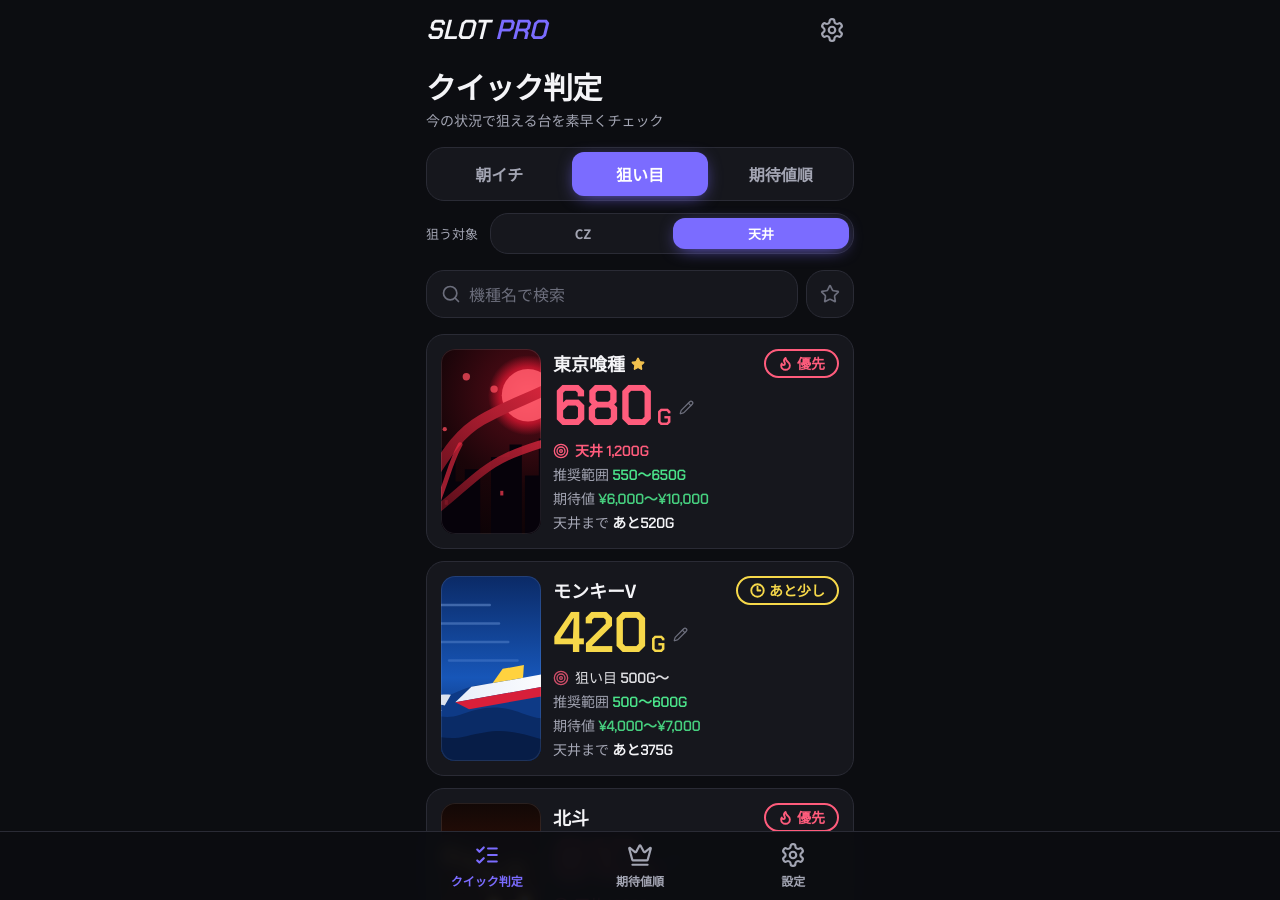
Test case: 画面 › 狙う対象をCZにするとCZの対象機種だけになる
Click the tab "CZ".
click(583, 233)  # box [495,218,671,249]
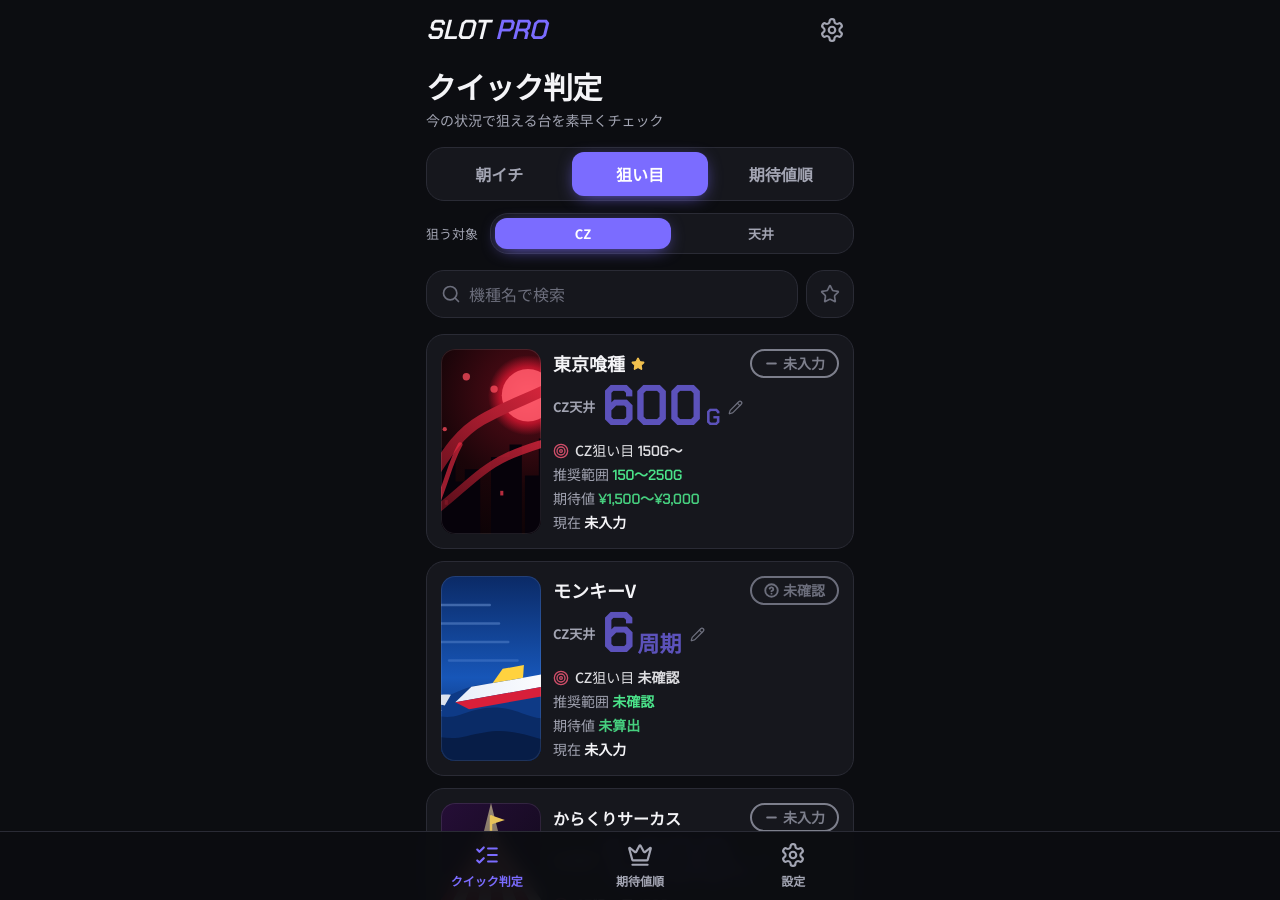
Result: the button "北斗" is gone
Result: the text "CZ狙い目 150G〜" is shown at [575,440,683,462]
Result: the text "600" is shown at [601,380,701,434]
Click the button with aria-label "東京喰種の現在CZ液晶ゲーム数を入力".
click(648, 407)  # box [553,380,743,434]
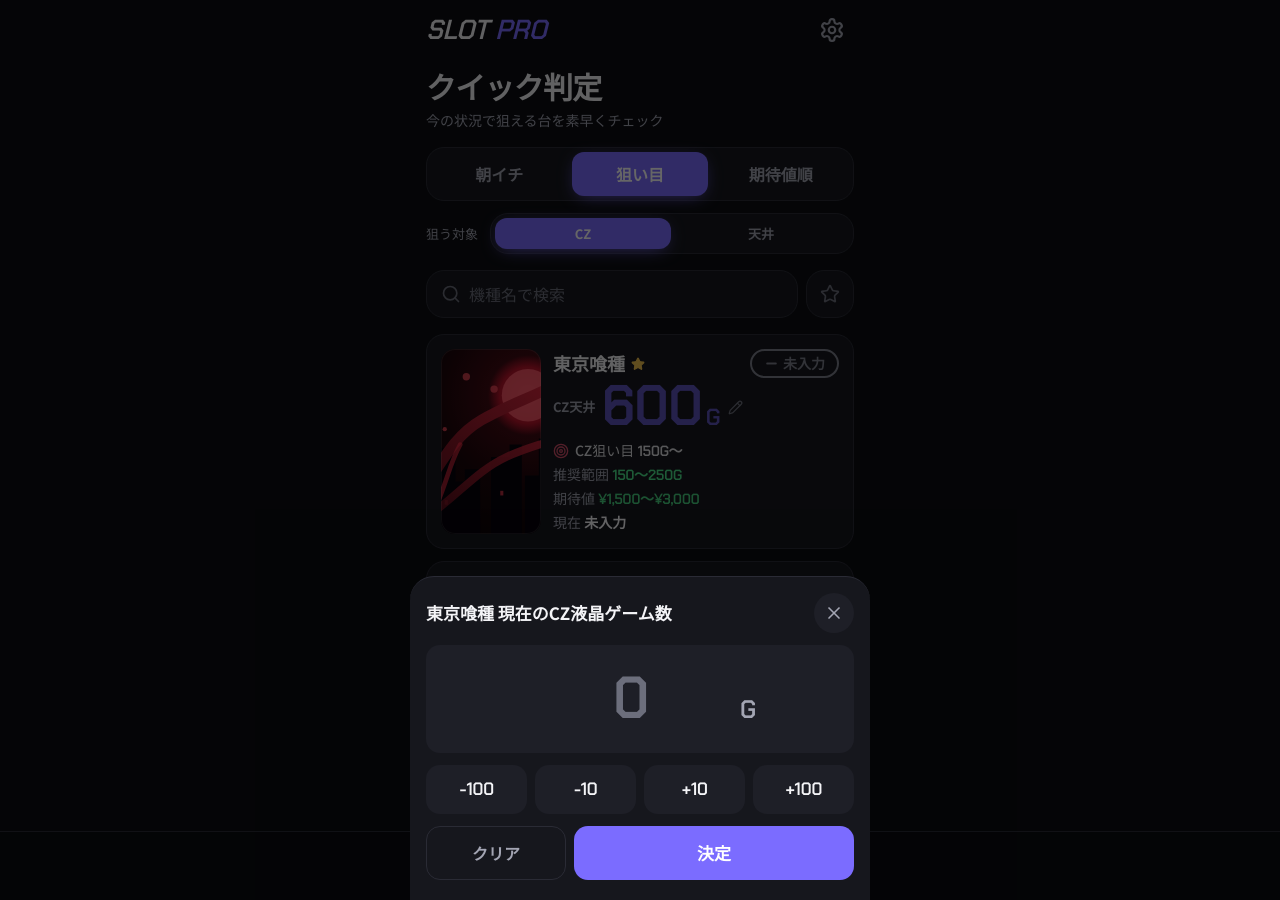
Type "200" into the field.
click(630, 698); type("200")  # box [525,656,736,740]
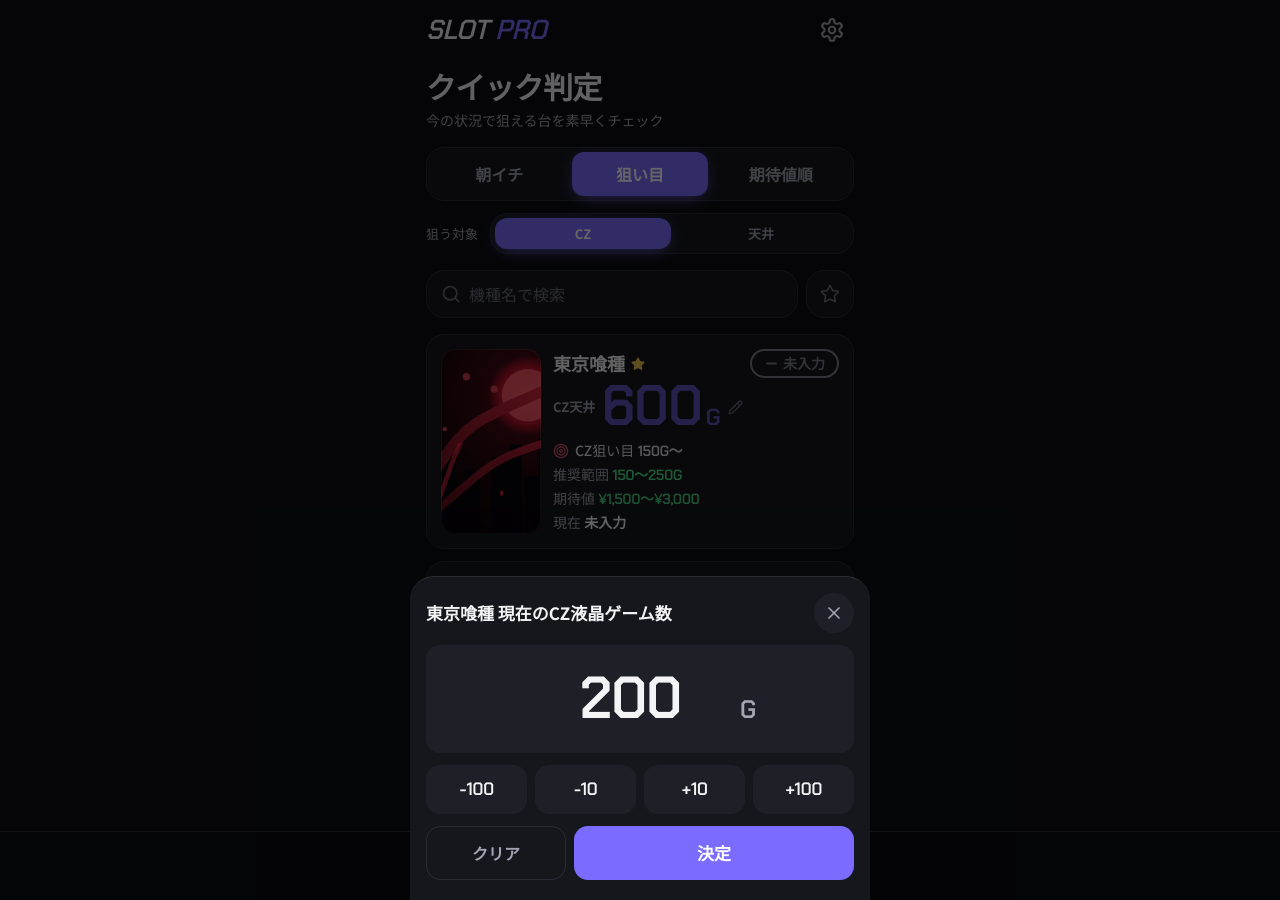
Click the button "決定".
click(714, 853)  # box [574,826,854,880]
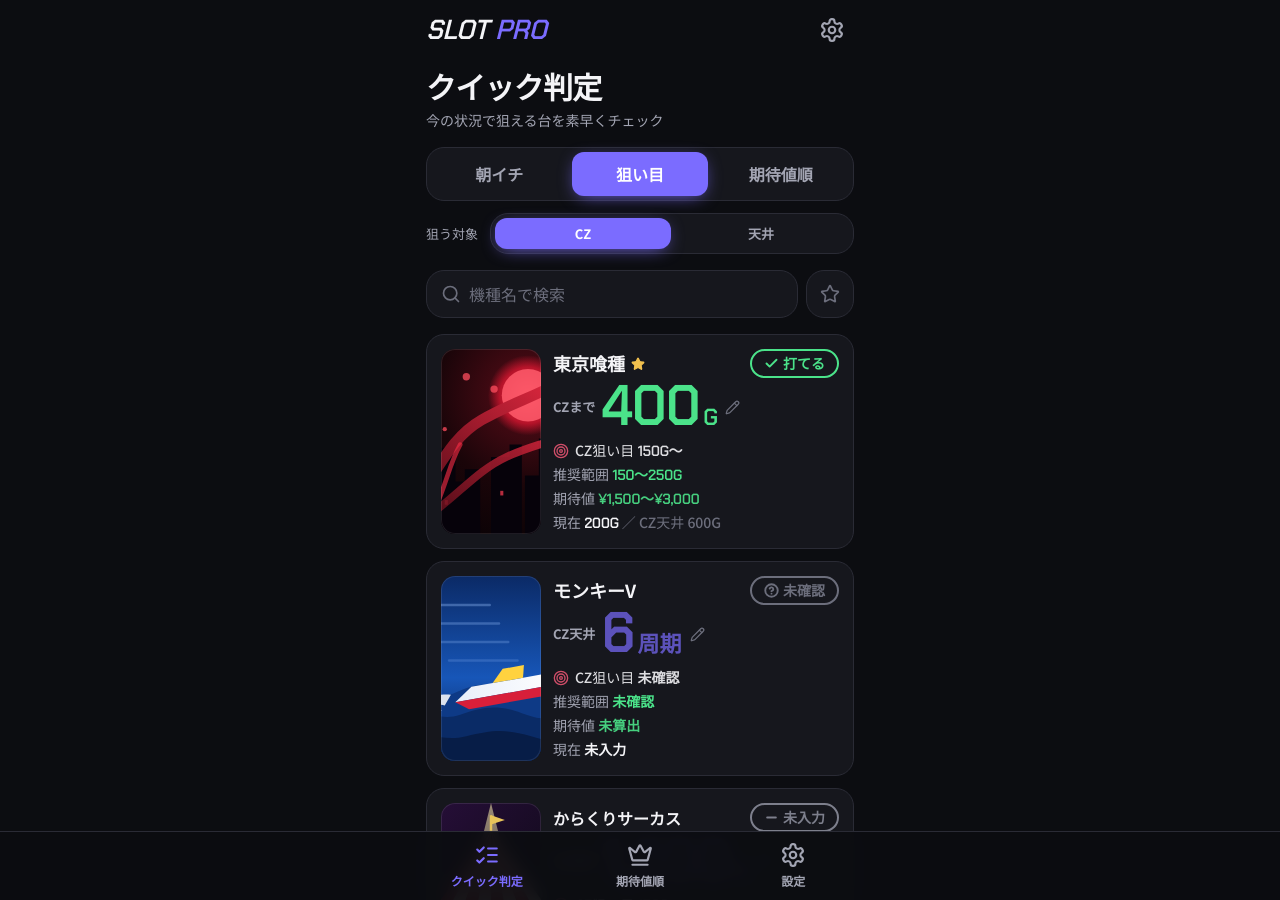
Result: the text "400" is shown at [601,380,699,434]
Result: the text "CZまで" is shown at [553,397,595,417]
